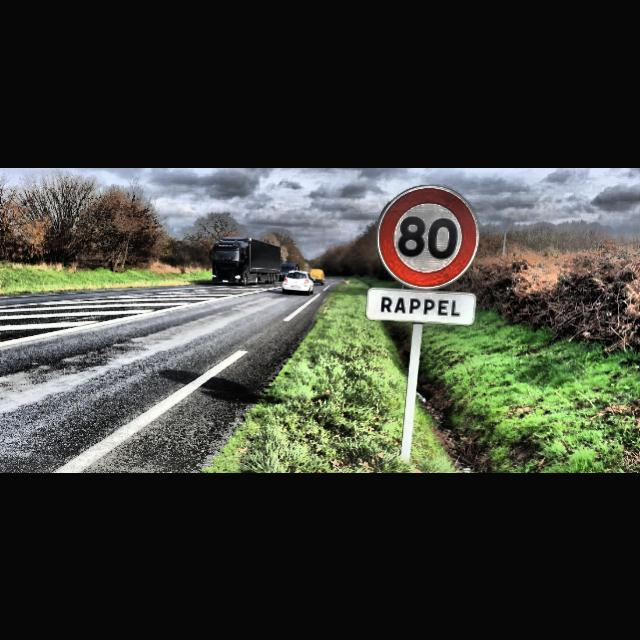speed_80: (376, 186, 480, 290)
